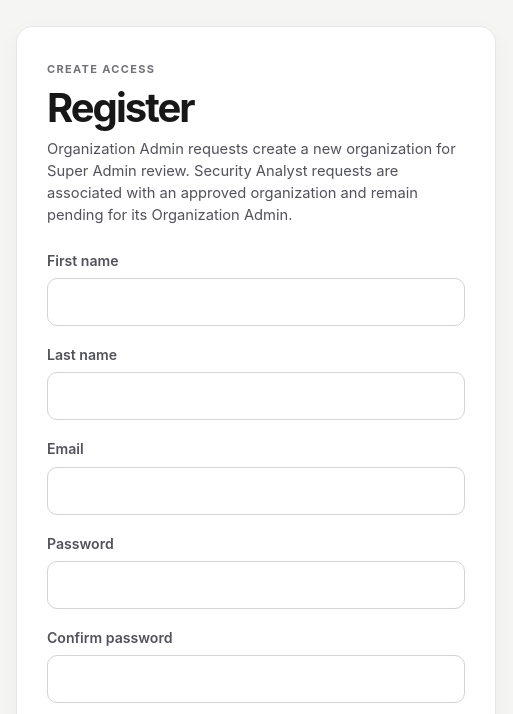
Authentication, Access Control and IAM Views › submits a Security Analyst registration with an organization name and no unsupported fields
This screenshot has width=513, height=714.
Type "Taylor" into the field labelled "First name". click: (256, 302)
box: [47,278,465,326]
Type "Security" into the field labelled "Last name". click: (256, 396)
box: [47,372,465,420]
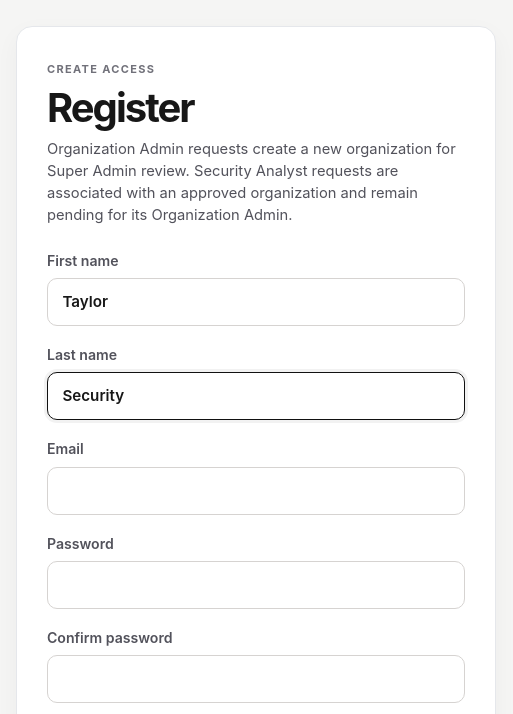
Type "analyst@example.com" into the field labelled "Email". click: (256, 491)
box: [47,467,465,515]
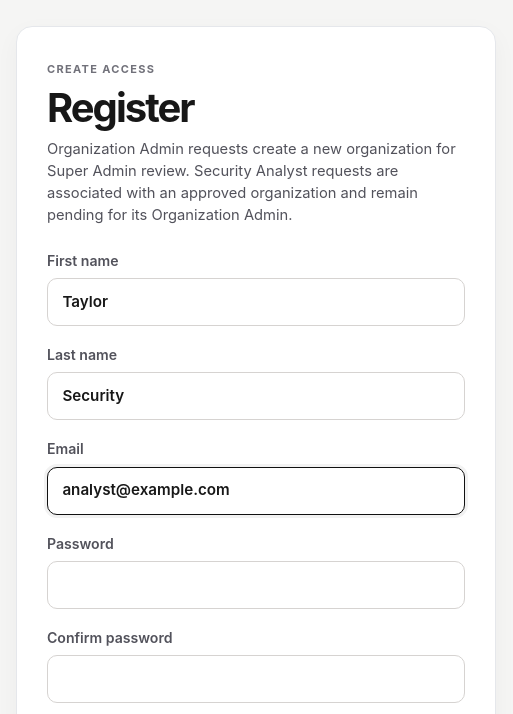
Type "LongPassword123" into the password field labelled "Password". click: (256, 585)
box: [47,561,465,609]
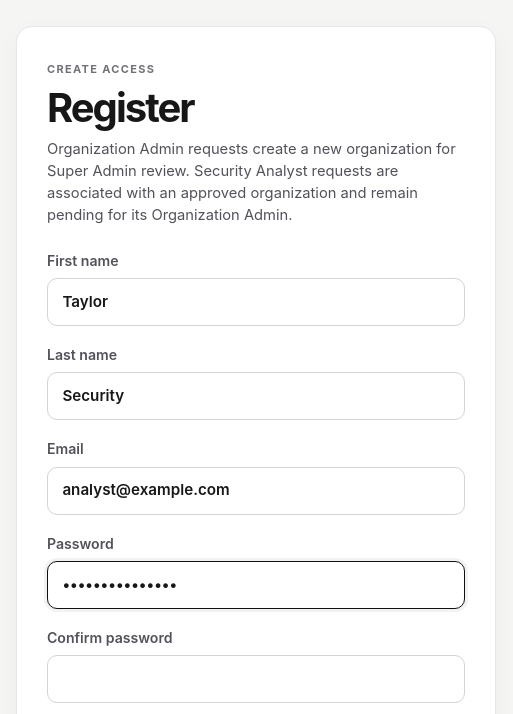
Type "LongPassword123" into the password field labelled "Confirm password". click: (256, 679)
box: [47,655,465,703]
(page scrolled)
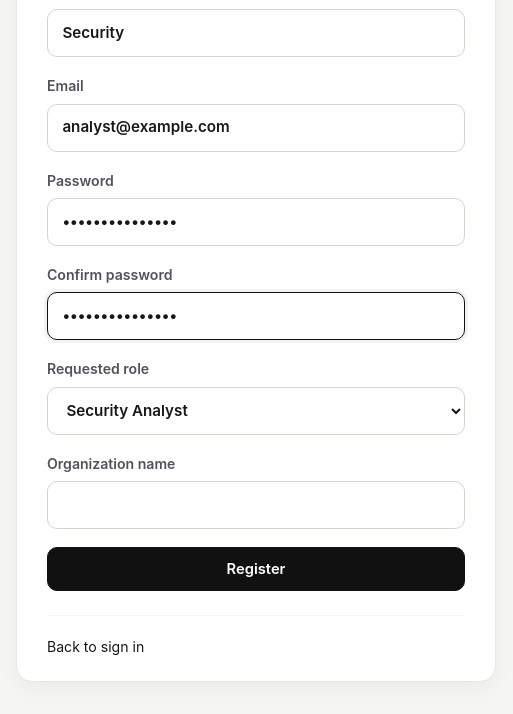
Type "Northstar" into the field labelled "Organization name". click: (256, 505)
box: [47,481,465,529]
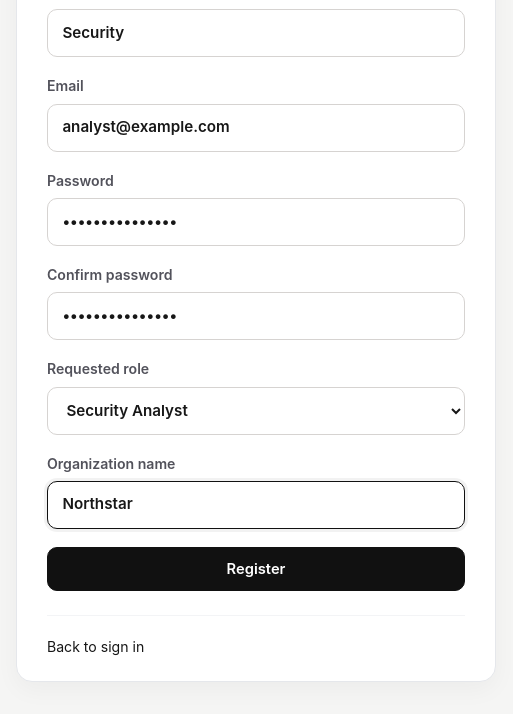
Click the button "Register". click: (256, 569)
box: [47,547,465,591]
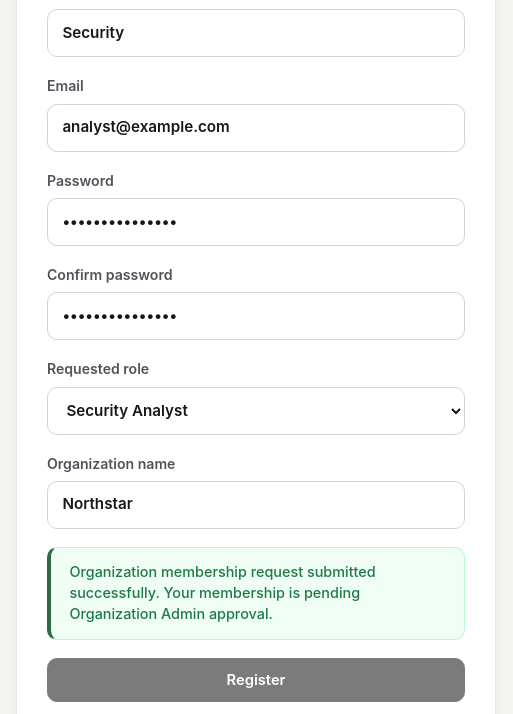
Result: the text "membership is pending organization admin approval" is shown at [69,563,376,622]
